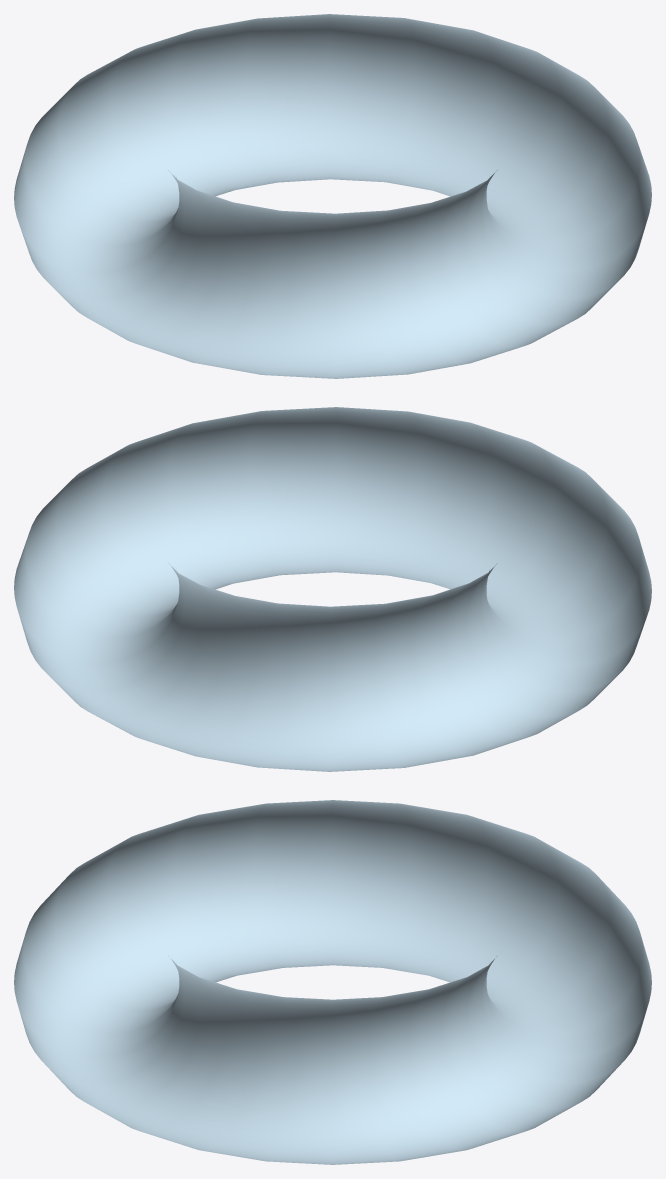
Rendered from example.gltf.
The picture shows the model from 3 angles, top to bottom: view 1: azimuth 30°, elevation 25°; view 2: azimuth 150°, elevation 25°; view 3: azimuth 270°, elevation 25°; orthographic projection.
Visible parts, largest first — view 1: nurbs_surface; view 2: nurbs_surface; view 3: nurbs_surface.
Boxes of the visible parts, bbox=[...] form: nurbs_surface: bbox=[14, 14, 651, 378]; nurbs_surface: bbox=[14, 407, 651, 771]; nurbs_surface: bbox=[14, 800, 651, 1164].
Size of the model in its own units: 2.7 by 0.6997 by 2.7.
